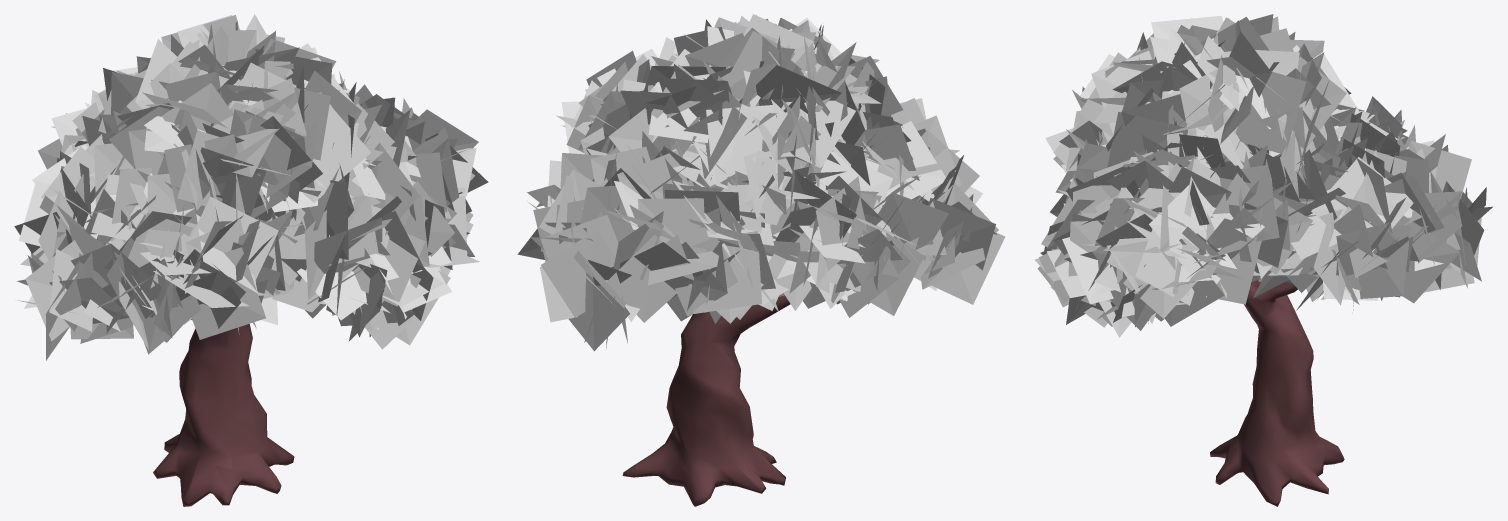
File: arvore-teste-v1.fbx
3 renders of one model, left to right at view 1: azimuth 30°, elevation 25°; view 2: azimuth 150°, elevation 25°; view 3: azimuth 270°, elevation 25°, orthographic. The views are drawn at different scales.
Parts seen in each view (by area): view 1: Plane.012, tree_lp.012; view 2: Plane.012, tree_lp.012; view 3: Plane.012, tree_lp.012.
Part boxes in pixels (x1=…): Plane.012: x1=14, y1=14, x2=488, y2=360; tree_lp.012: x1=153, y1=319, x2=294, y2=506; Plane.012: x1=517, y1=14, x2=1005, y2=351; tree_lp.012: x1=622, y1=295, x2=790, y2=506; Plane.012: x1=1034, y1=14, x2=1492, y2=337; tree_lp.012: x1=1210, y1=280, x2=1344, y2=506.
Size of the model in its own units: 593 by 605 by 563.
